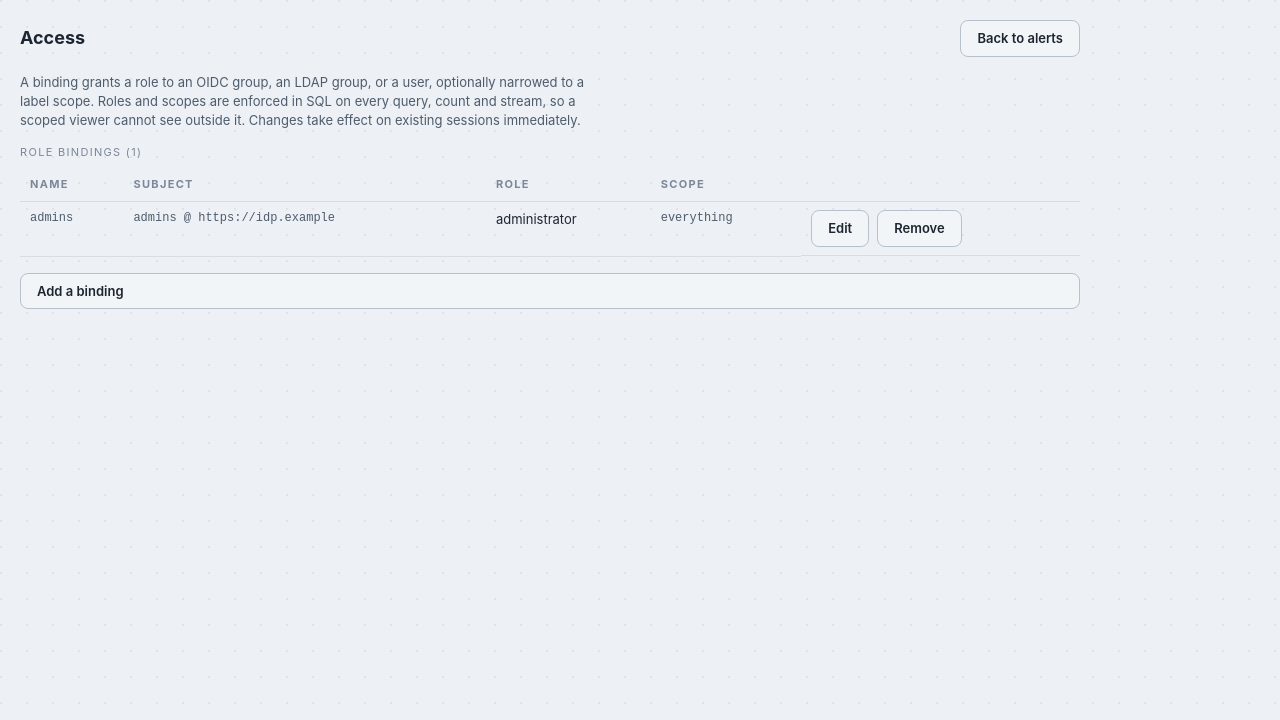
Test case: AccessPanel › surfaces the refusal to remove the last administrator
Expected: the text "admins" is shown, [20,202,123,256]
Click the button "Remove". click: click(919, 229)
box: [877,210,962,247]
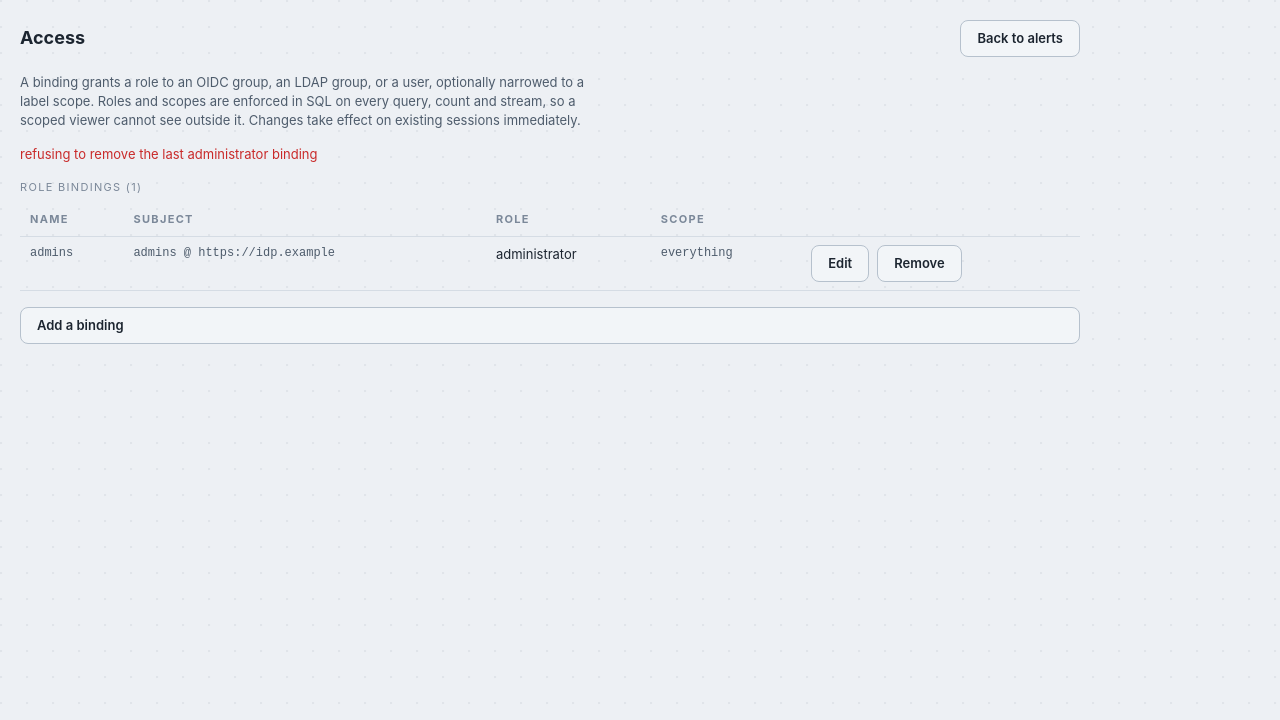
Result: the message shows "last administrator" at [20,146,318,162]
